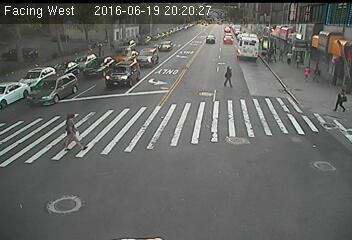neg: (304, 150, 336, 193), (247, 129, 275, 166), (18, 51, 44, 86), (116, 42, 140, 75), (59, 186, 83, 218), (172, 51, 194, 81), (117, 119, 139, 149), (272, 91, 294, 120), (140, 166, 162, 195), (191, 113, 210, 139), (287, 48, 305, 73), (65, 53, 82, 76), (221, 29, 238, 52)
pos: (56, 107, 90, 153), (326, 84, 350, 117), (221, 62, 240, 88)
